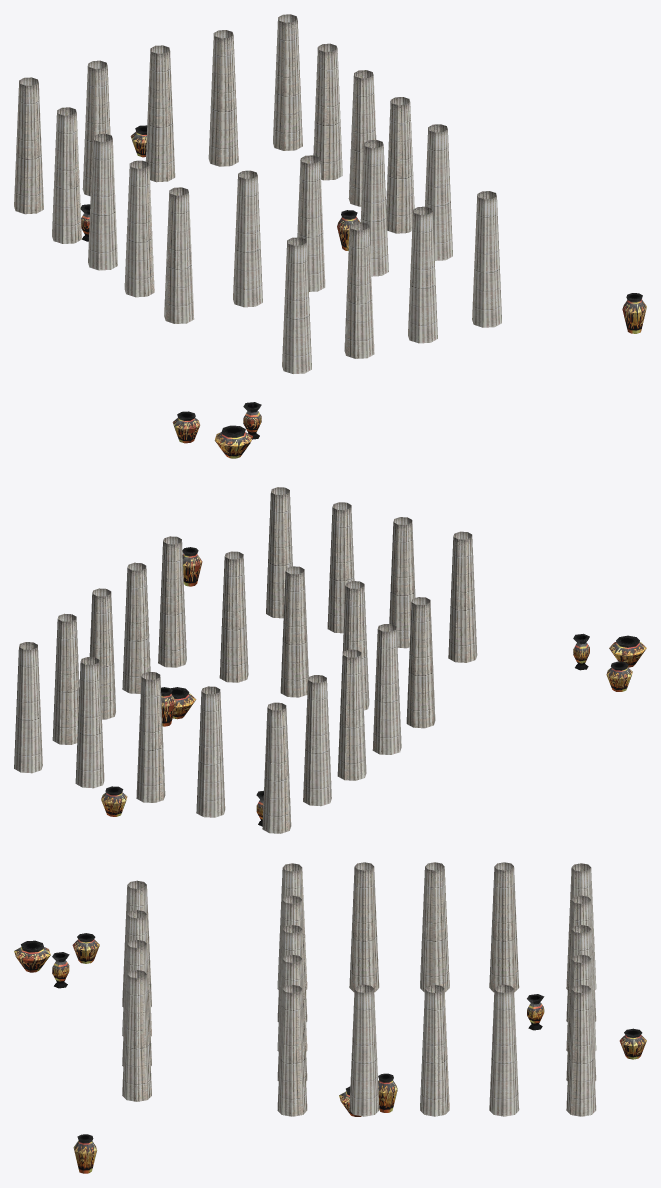
Rendered from hele_gym_props.dae.
3 views of the same model, one above another, from view 1: azimuth 30°, elevation 25°; view 2: azimuth 150°, elevation 25°; view 3: azimuth 270°, elevation 25° (orthographic). The views are drawn at different scales.
Visible parts, largest first — view 1: stoa_000; view 2: stoa_000; view 3: stoa_000.
Part boxes in pixels (x1,y1,x2,y2): stoa_000: (14,14,646,458); stoa_000: (14,487,646,833); stoa_000: (14,862,646,1173).
Bounding box in the file's own units: 20.77 × 6.28 × 25.14.
